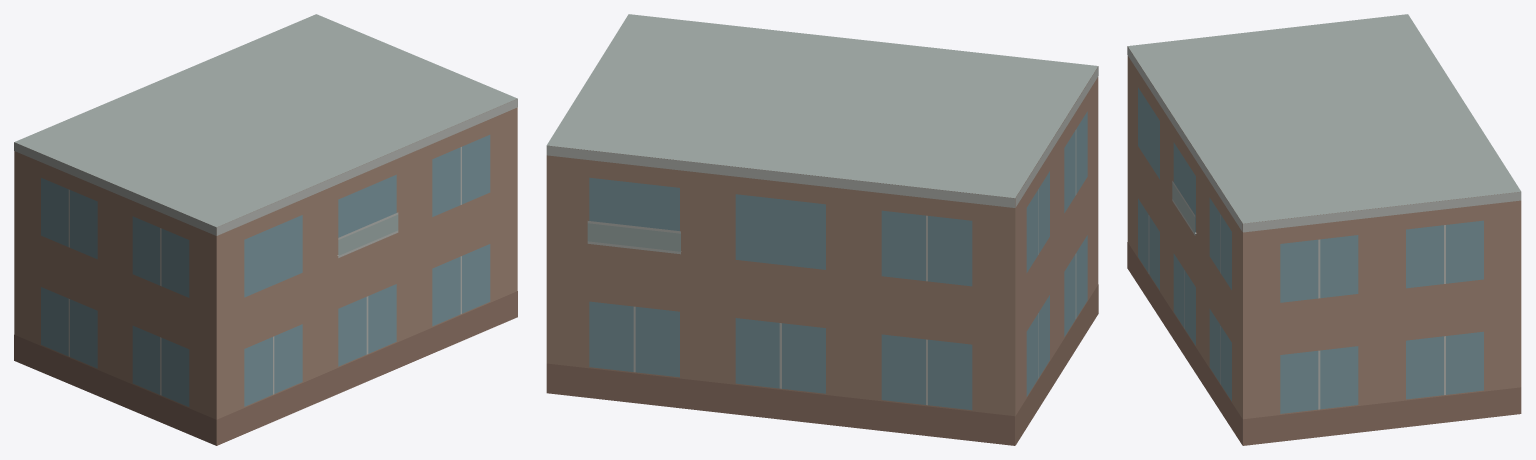
Rendered from survey-upis-32715889.glb.
3 renders of one model, left to right at view 1: azimuth 30°, elevation 25°; view 2: azimuth 150°, elevation 25°; view 3: azimuth 270°, elevation 25°, orthographic. The views are drawn at different scales.
Parts seen in each view (by area): view 1: survey-upis-32715889.tmp; view 2: survey-upis-32715889.tmp; view 3: survey-upis-32715889.tmp.
Boxes of the visible parts, x1=… form: survey-upis-32715889.tmp: x1=14, y1=14, x2=517, y2=445; survey-upis-32715889.tmp: x1=546, y1=14, x2=1098, y2=445; survey-upis-32715889.tmp: x1=1127, y1=14, x2=1521, y2=445.
Size of the model in its own units: 12.35 by 6.1 by 9.81.
